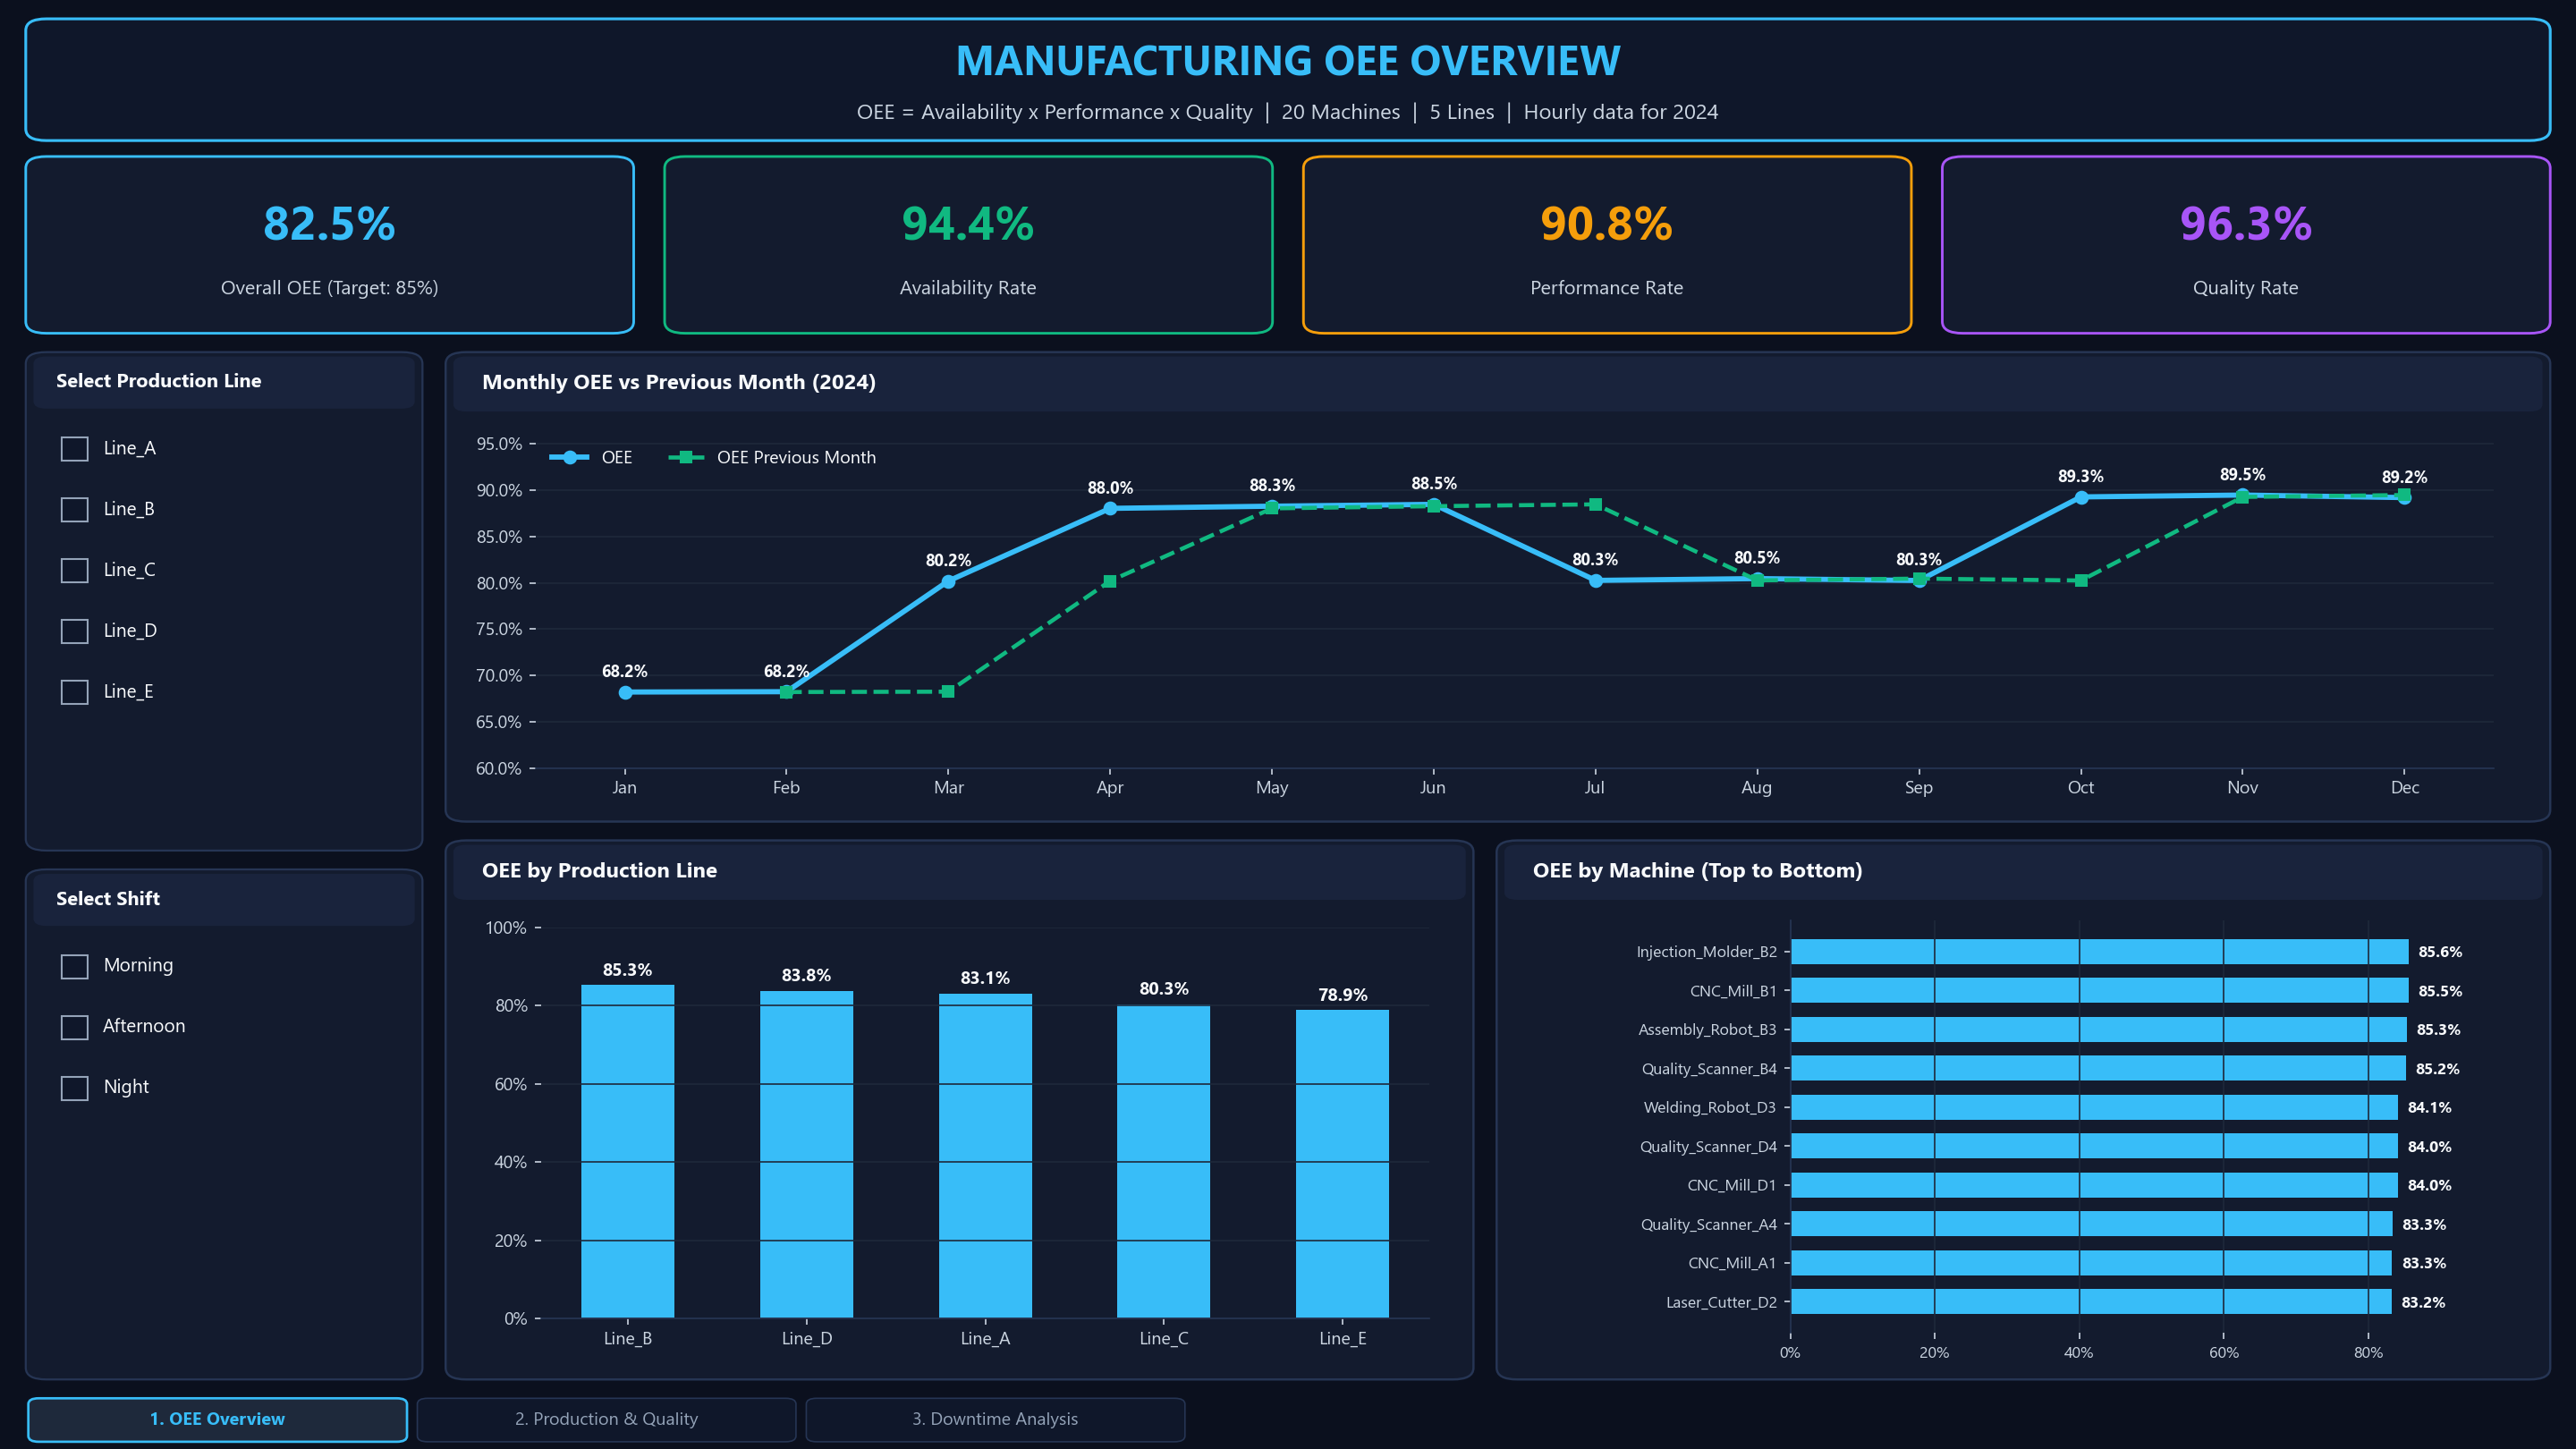

The page's visual inventory and layout, read from the dashboard file:
{"tool":"powerbi","page":{"name":"1. Live Interactive OEE Studio","canvas":[1920,1080],"ordinal":0},"visuals":[{"type":"card","fields":{"Values":["_Measures.OEE"]},"box":[20,20,295,135],"z":100},{"type":"card","fields":{"Values":["_Measures.Availability"]},"box":[330,20,295,135],"z":200},{"type":"card","fields":{"Values":["_Measures.Performance Rate"]},"box":[640,20,295,135],"z":300},{"type":"card","fields":{"Values":["_Measures.Quality Rate"]},"box":[950,20,295,135],"z":400},{"type":"card","fields":{"Values":["_Measures.Good Units"]},"box":[1260,20,310,135],"z":500},{"type":"card","fields":{"Values":["_Measures.Production Value"]},"box":[1585,20,315,135],"z":600},{"type":"slicer","fields":{"Values":["dim_machine.production_line"]},"box":[20,170,295,280],"z":700},{"type":"slicer","fields":{"Values":["dim_shift.shift_name"]},"box":[20,465,295,250],"z":800},{"type":"slicer","fields":{"Values":["dim_product.product_category"]},"box":[20,730,295,325],"z":900},{"type":"clusteredColumnChart","fields":{"Category":["dim_date.month_short"],"Y":["_Measures.OEE","_Measures.Availability","_Measures.Performance Rate","_Measures.Quality Rate"]},"box":[330,170,780,430],"z":1000},{"type":"clusteredBarChart","fields":{"Category":["fact_production.downtime_reason"],"Y":["_Measures.Downtime Hours","_Measures.Unplanned Downtime"]},"box":[330,615,780,440],"z":1100},{"type":"clusteredBarChart","fields":{"Category":["dim_machine.machine_id"],"Y":["_Measures.OEE"]},"box":[1125,170,775,430],"z":1200},{"type":"tableEx","fields":{"Values":["dim_machine.machine_id","dim_machine.production_line","dim_machine.machine_type","_Measures.OEE","_Measures.Availability","_Measures.Performance Rate","_Measures.Quality Rate","_Measures.Good Units","_Measures.Scrap Rate","_Measures.Downtime Hours","_Measures.MTBF Hours","_Measures.OEE Status"]},"box":[1125,615,775,440],"z":1300}]}

Visuals, with their boxes in screenshot pixels (x1, y1, x2, y2), scaled from the page's 1920x1080 canvas onto the 2576x1449 screenshot:
card - _Measures.OEE: 27, 27, 422, 208
card - _Measures.Availability: 443, 27, 839, 208
card - _Measures.Performance Rate: 859, 27, 1254, 208
card - _Measures.Quality Rate: 1275, 27, 1671, 208
card - _Measures.Good Units: 1690, 27, 2106, 208
card - _Measures.Production Value: 2127, 27, 2549, 208
slicer - dim_machine.production_line: 27, 228, 422, 604
slicer - dim_shift.shift_name: 27, 624, 422, 959
slicer - dim_product.product_category: 27, 979, 422, 1415
clusteredColumnChart - dim_date.month_short x _Measures.OEE: 443, 228, 1489, 805
clusteredBarChart - fact_production.downtime_reason x _Measures.Downtime Hours: 443, 825, 1489, 1415
clusteredBarChart - dim_machine.machine_id x _Measures.OEE: 1510, 228, 2549, 805
tableEx - dim_machine.machine_id x dim_machine.production_line: 1510, 825, 2549, 1415
